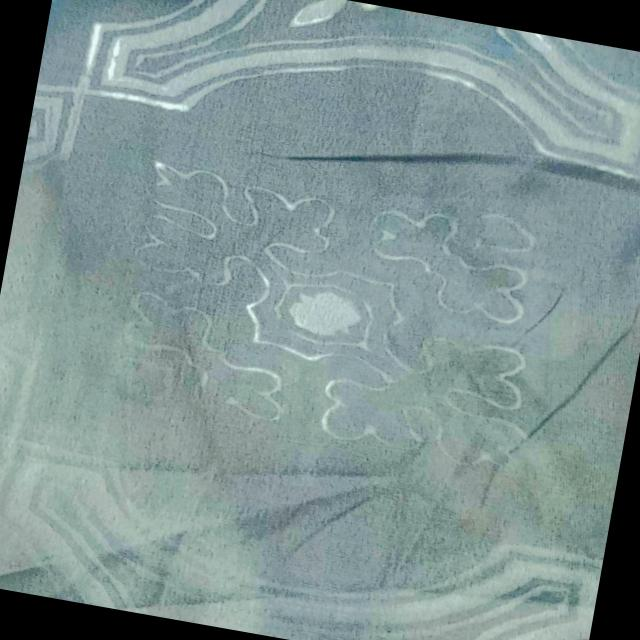baekra: (36, 190, 612, 640)
